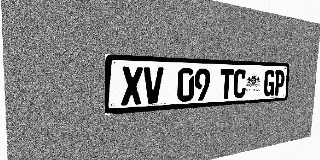0: (177, 68, 195, 102)
9: (194, 68, 210, 101)
C: (233, 69, 247, 98)
G: (263, 70, 275, 97)
P: (274, 70, 285, 96)
T: (219, 69, 234, 99)
V: (143, 67, 163, 104)
X: (121, 66, 143, 106)
